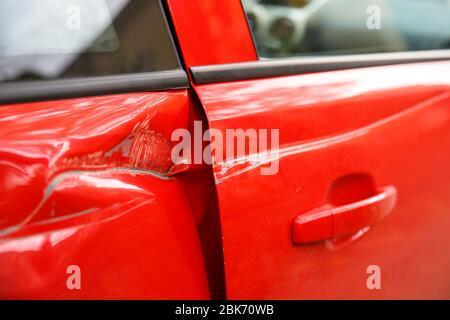dent: (0, 95, 218, 275)
